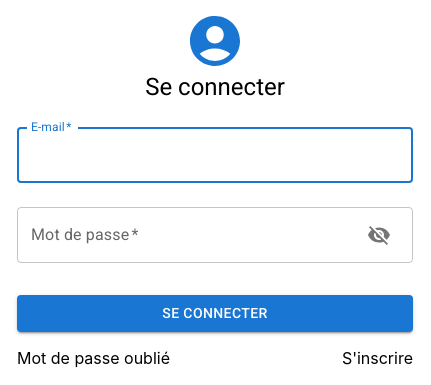
Test case: SignIn Component › disable the button when fetching
This screenshot has width=431, height=385.
Type "test@example.com" into the field labelled "E-mail *" at {"x": 215, "y": 155}, box [17,127,413,183]
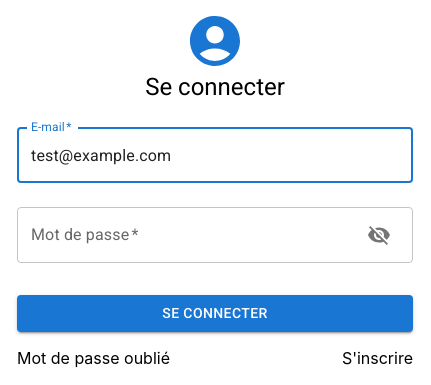
Type "Valid@1234" into the password field labelled "Mot de passe *" at {"x": 184, "y": 235}, box [17,207,351,263]
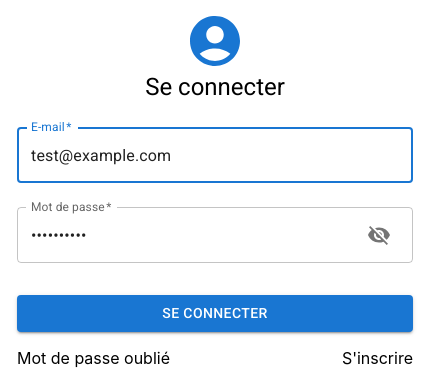
Click the button "Se connecter" at {"x": 215, "y": 313}, box [17,295,413,332]
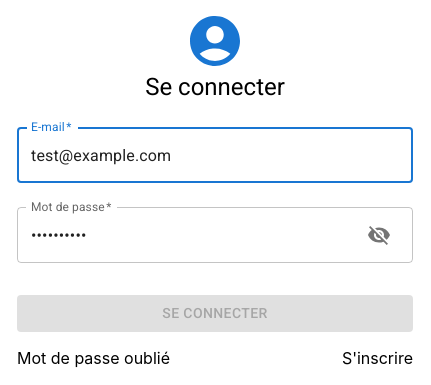
Result: the button "Se connecter" is disabled at [17,295,413,332]
